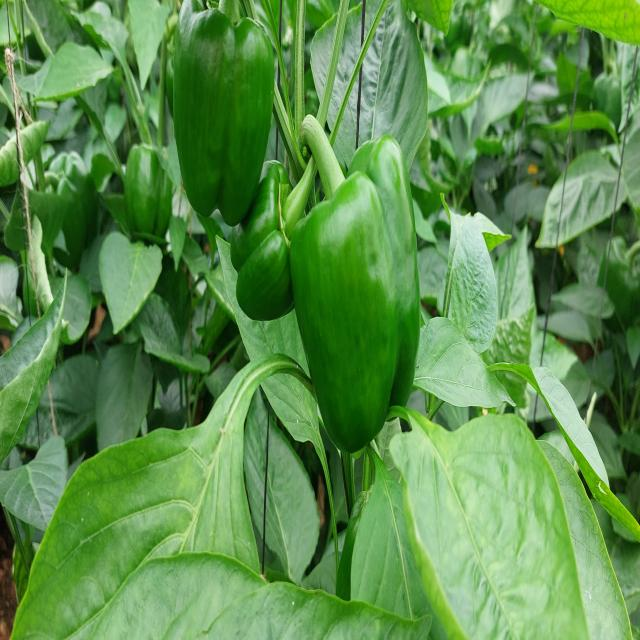Green--Not-ready-to-harvest: (302, 168, 432, 452), (173, 9, 281, 210), (230, 144, 305, 327), (124, 129, 174, 264)
